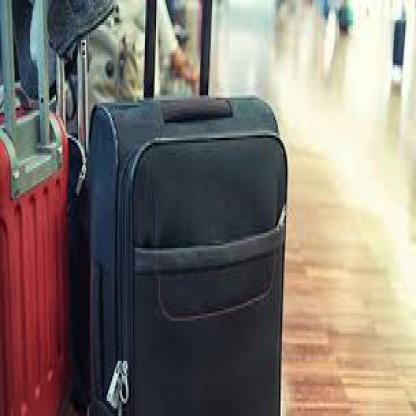maleta: (79, 90, 290, 414), (3, 52, 82, 414), (390, 13, 411, 78)
